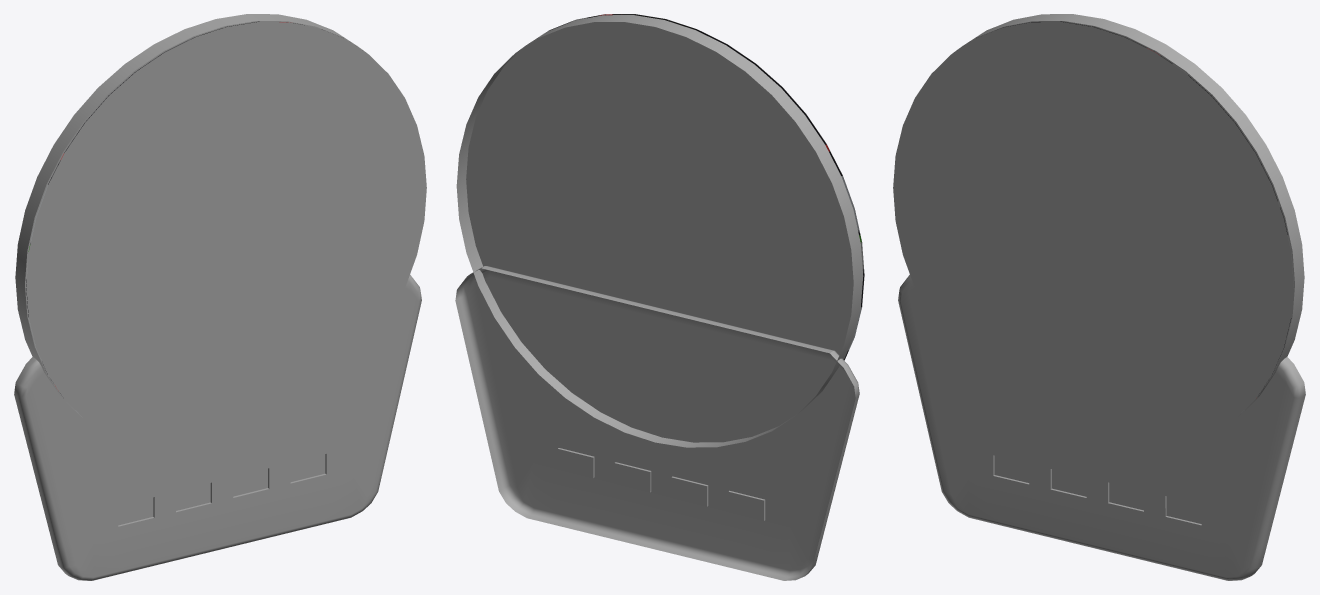
Rendered from BarDartboard.fbx.
3 renders of one model, left to right at view 1: azimuth 30°, elevation 25°; view 2: azimuth 150°, elevation 25°; view 3: azimuth 330°, elevation 25°, orthographic.
Parts seen in each view (by area): view 1: meshbase, border19, border10, border20, border11, border14, border6, border3, border13, border7, border5, border8 (+49 smaller); view 2: meshbase, meshBaseNumbers; view 3: meshbase, border17, border8, border20, border6, border11, border13, border3, border14, border1, border2, border10 (+49 smaller).
Boxes of the visible parts, bbox=[...] form: meshbase: bbox=[14, 14, 421, 580]; border19: bbox=[136, 382, 204, 451]; border10: bbox=[351, 221, 424, 287]; border20: bbox=[195, 22, 257, 96]; border11: bbox=[26, 247, 88, 317]; border14: bbox=[29, 185, 101, 251]; border6: bbox=[365, 156, 426, 225]; border3: bbox=[195, 376, 257, 451]; border13: bbox=[351, 98, 424, 179]; border7: bbox=[85, 364, 162, 445]; border5: bbox=[136, 37, 204, 121]; border8: bbox=[29, 293, 101, 374]; meshbase: bbox=[455, 15, 863, 580]; meshBaseNumbers: bbox=[548, 14, 864, 360]; meshbase: bbox=[898, 14, 1305, 580]; border17: bbox=[1115, 382, 1183, 451]; border8: bbox=[895, 221, 968, 287]; border20: bbox=[1062, 22, 1124, 96]; border6: bbox=[1231, 247, 1293, 317]; border11: bbox=[893, 156, 954, 225]; border13: bbox=[1218, 185, 1290, 251]; border3: bbox=[1062, 376, 1124, 451]; border14: bbox=[895, 98, 968, 179]; border1: bbox=[1115, 37, 1183, 121]; border2: bbox=[1157, 364, 1234, 445]; border10: bbox=[1218, 293, 1290, 374].
Size of the model in its own units: 97.71 by 122 by 4.59.
